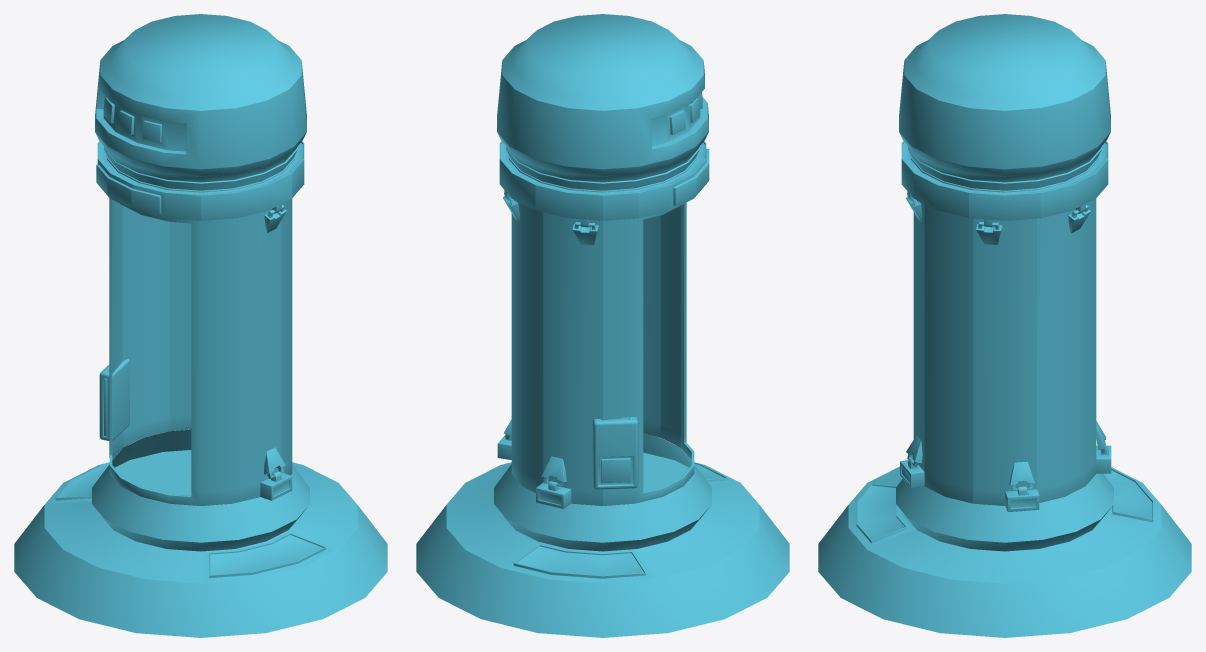
The picture shows the model from 3 angles, left to right: view 1: azimuth 30°, elevation 25°; view 2: azimuth 150°, elevation 25°; view 3: azimuth 270°, elevation 25°; orthographic projection.
Parts seen in each view (by area): view 1: SocleCapsule_Lp_002; view 2: SocleCapsule_Lp_002; view 3: SocleCapsule_Lp_002.
Part boxes in pixels (x1,y1,x2,y2): SocleCapsule_Lp_002: (14, 14, 387, 637); SocleCapsule_Lp_002: (416, 14, 789, 637); SocleCapsule_Lp_002: (818, 14, 1191, 637).
Bounding box in the file's own units: 101 × 151 × 99.72.
